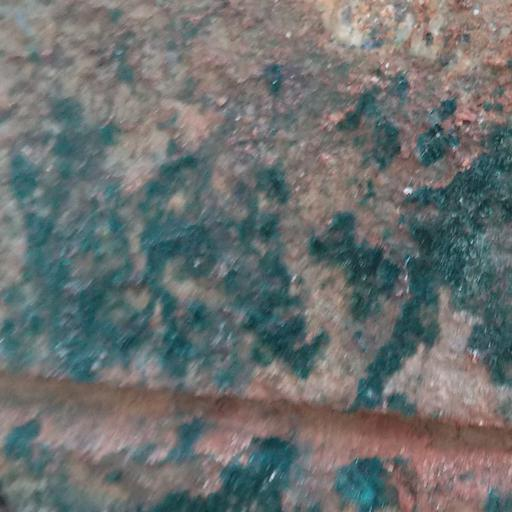algae: (5, 38, 512, 452)
